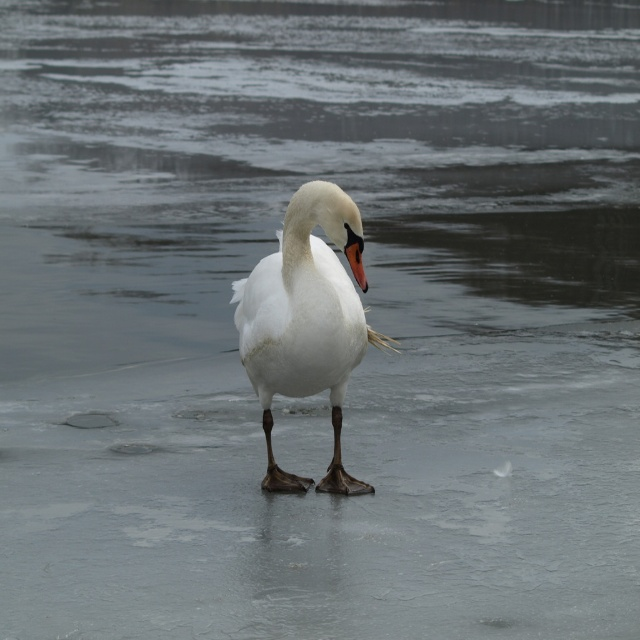Duck: (226, 172, 391, 508)
